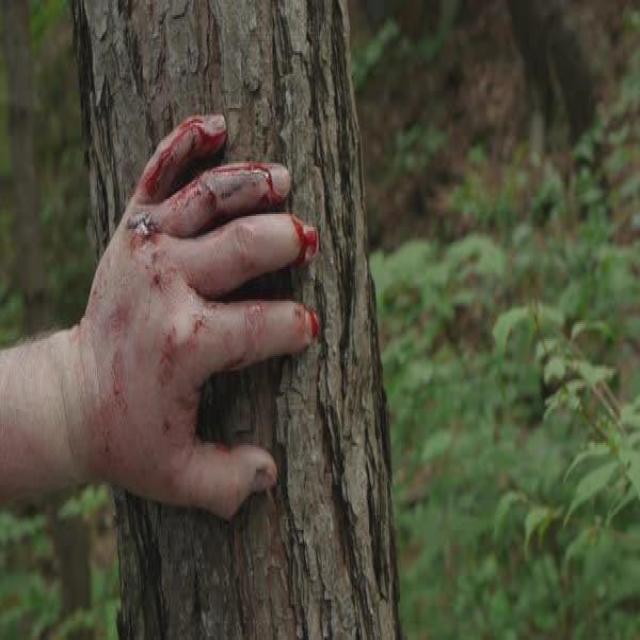flood: (126, 94, 330, 392)
